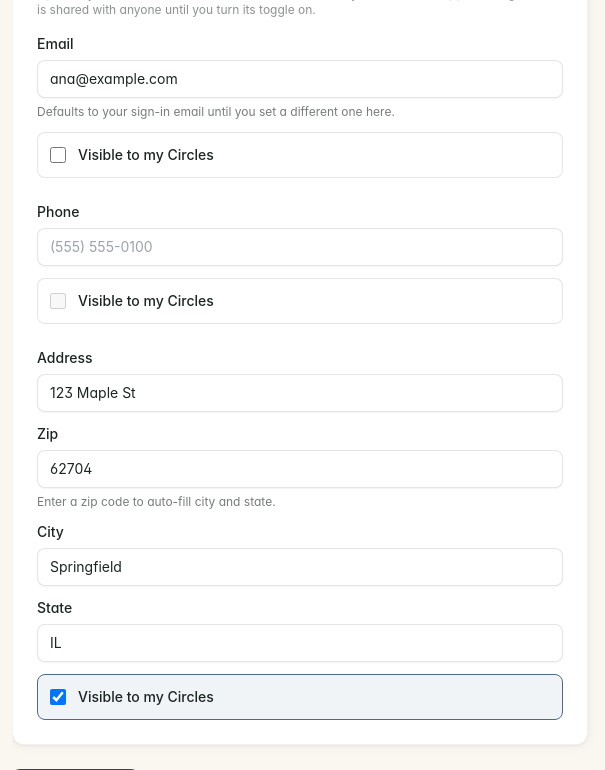
AccountPage › disables the address visibility toggle again only once all four address fields are emptied
(page scrolled)
Check: the 3rd checkbox labelled "Visible to my Circles" is checked, box [50,689,66,705]
Clear the field labelled "Address": (300, 393) [37,374,563,412]
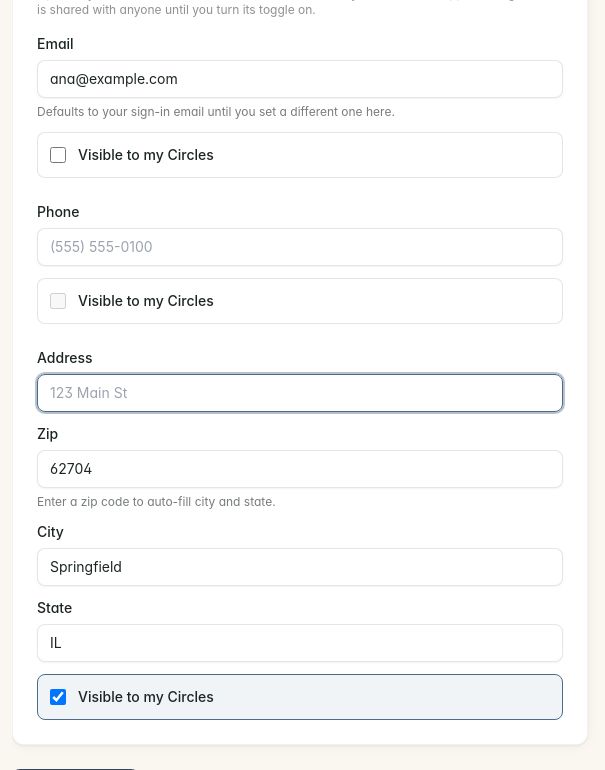
Check: the 3rd checkbox labelled "Visible to my Circles" is checked, box [50,689,66,705]
Clear the field labelled "City": (300, 567) [37,548,563,586]
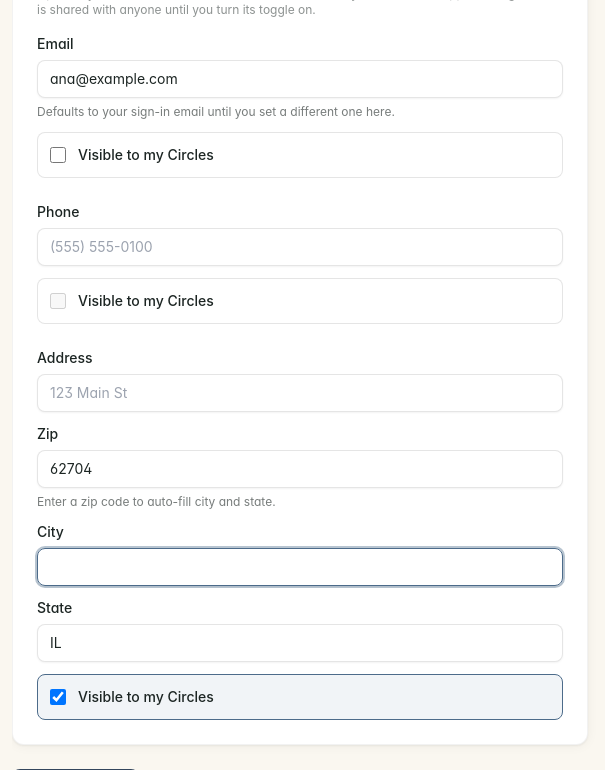
Check: the 3rd checkbox labelled "Visible to my Circles" is checked, box [50,689,66,705]
Clear the field labelled "State": (300, 643) [37,624,563,662]
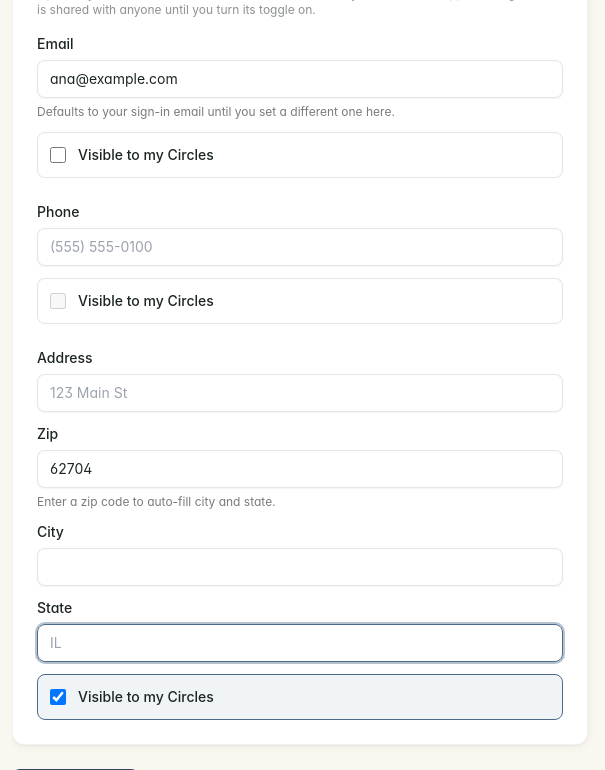
Check: the 3rd checkbox labelled "Visible to my Circles" is checked, box [50,689,66,705]
Clear the field labelled "Zip": (300, 469) [37,450,563,488]
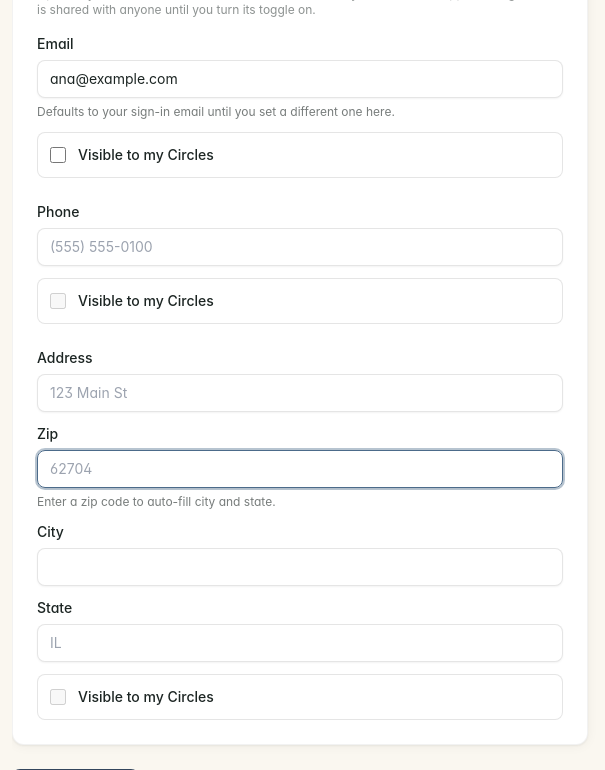
Check: the 3rd checkbox labelled "Visible to my Circles" is not checked, box [50,689,66,705]
Check: the 3rd checkbox labelled "Visible to my Circles" is disabled, box [50,689,66,705]
